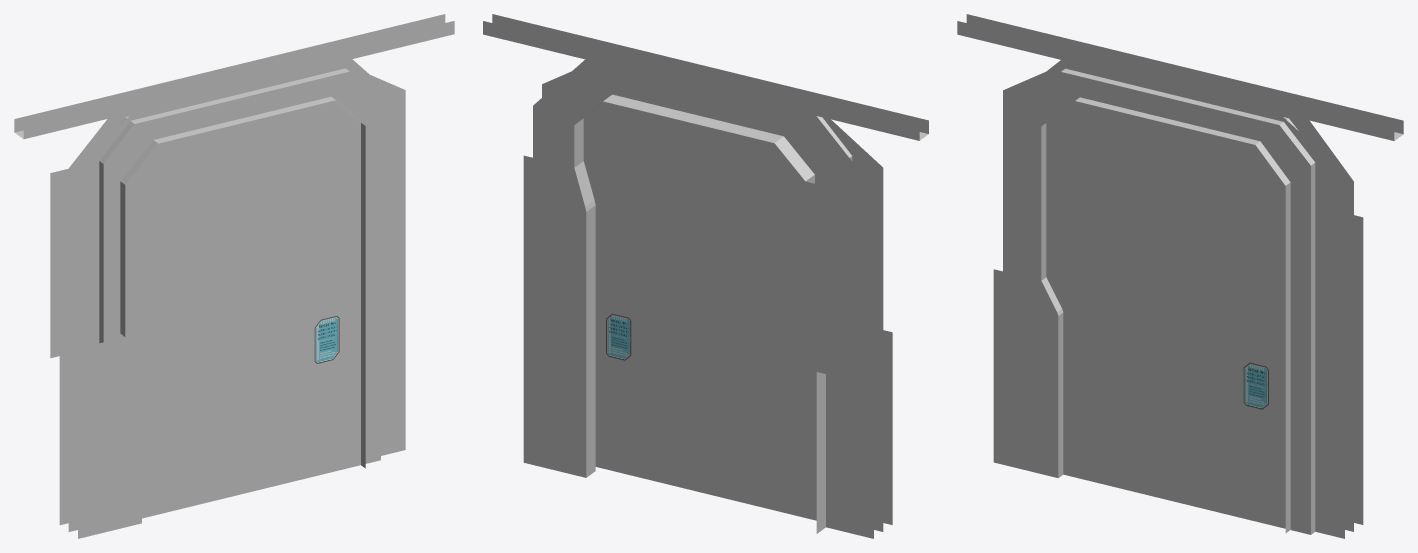
The model's file is wall_01_4x3_door_wings.fbx.
3 views of the same model, side by side, from view 1: azimuth 30°, elevation 25°; view 2: azimuth 150°, elevation 25°; view 3: azimuth 330°, elevation 25° (orthographic).
Parts seen in each view (by area): view 1: Cube.126, Cube.127, Cube.128, Cube.131, Cube.130, Cube.129; view 2: Cube.126, Cube.127, Cube.128, Cube.131, Cube.130, Cube.129; view 3: Cube.126, Cube.127, Cube.128, Cube.131, Cube.130, Cube.129.
Part boxes in pixels (x1=…): Cube.126: x1=14, y1=14, x2=454, y2=538; Cube.127: x1=174, y1=68, x2=380, y2=506; Cube.128: x1=204, y1=117, x2=343, y2=456; Cube.131: x1=99, y1=110, x2=223, y2=518; Cube.130: x1=145, y1=266, x2=203, y2=476; Cube.129: x1=314, y1=315, x2=339, y2=363; Cube.126: x1=483, y1=14, x2=928, y2=538; Cube.127: x1=583, y1=101, x2=771, y2=506; Cube.128: x1=604, y1=112, x2=745, y2=455; Cube.131: x1=726, y1=116, x2=852, y2=520; Cube.130: x1=746, y1=263, x2=805, y2=475; Cube.129: x1=606, y1=313, x2=631, y2=360; Cube.126: x1=957, y1=14, x2=1403, y2=538; Cube.127: x1=1105, y1=79, x2=1315, y2=534; Cube.128: x1=1131, y1=128, x2=1272, y2=488; Cube.131: x1=1029, y1=68, x2=1150, y2=487; Cube.130: x1=1071, y1=230, x2=1130, y2=441; Cube.129: x1=1243, y1=362, x2=1268, y2=409.
Bounding box in the file's own units: 268 × 248 × 29.94.
